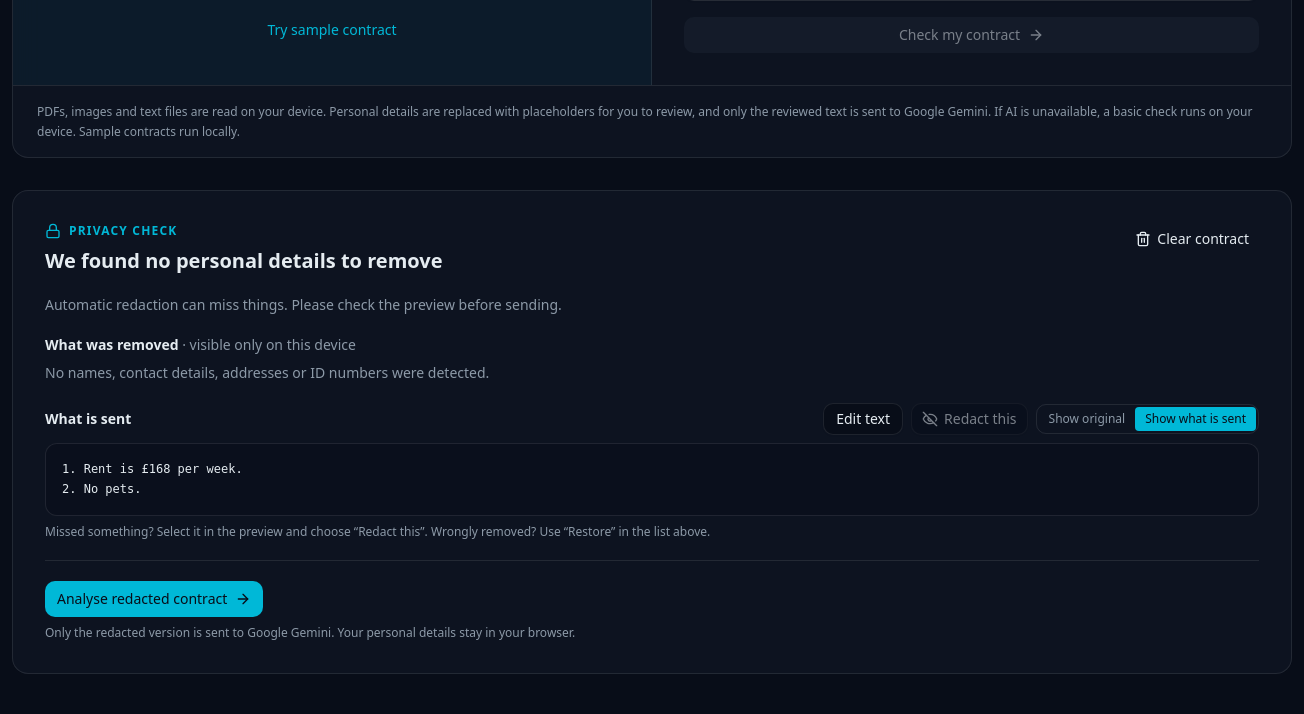
Test case: keeps the extracted PDF available for quotation lookup after pre-analysis review
(page scrolled)
Click the button "Analyse redacted contract" at (154,599), box x1=45 y1=581 x2=263 y2=617
(page scrolled)
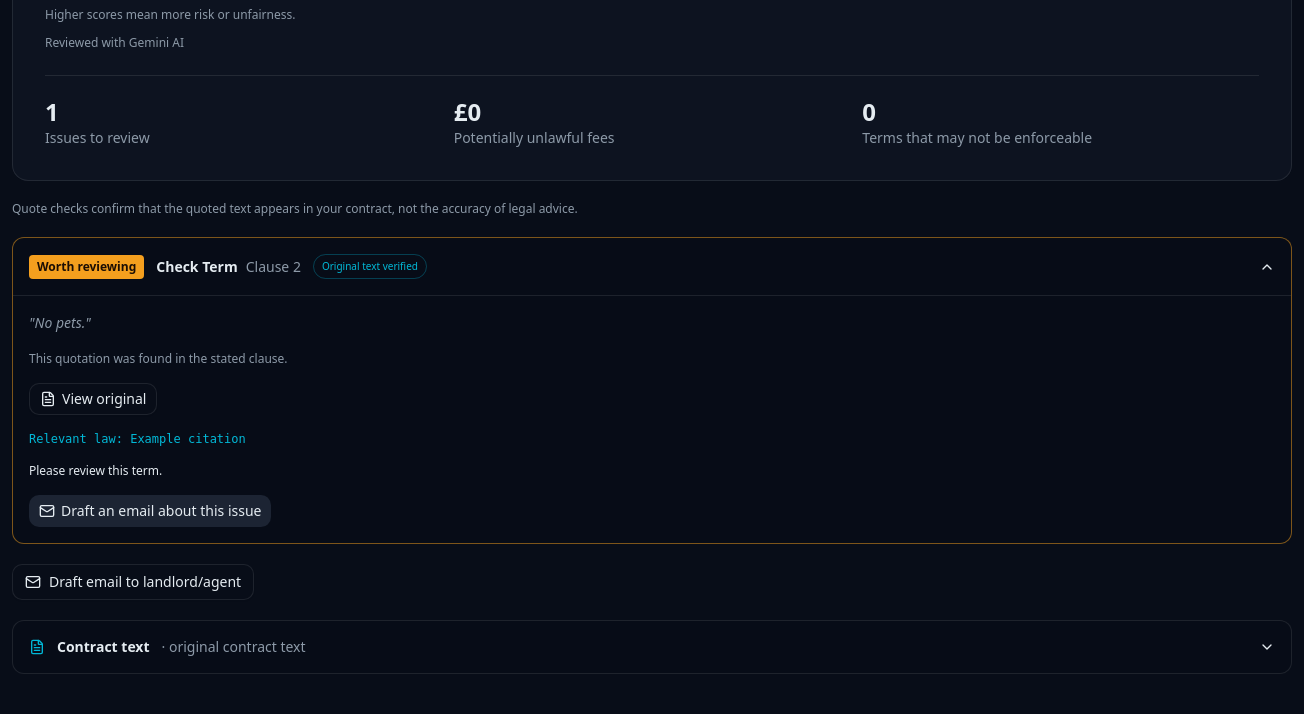
Click the button "View original" at (93,399), box x1=29 y1=383 x2=158 y2=415
(page scrolled)
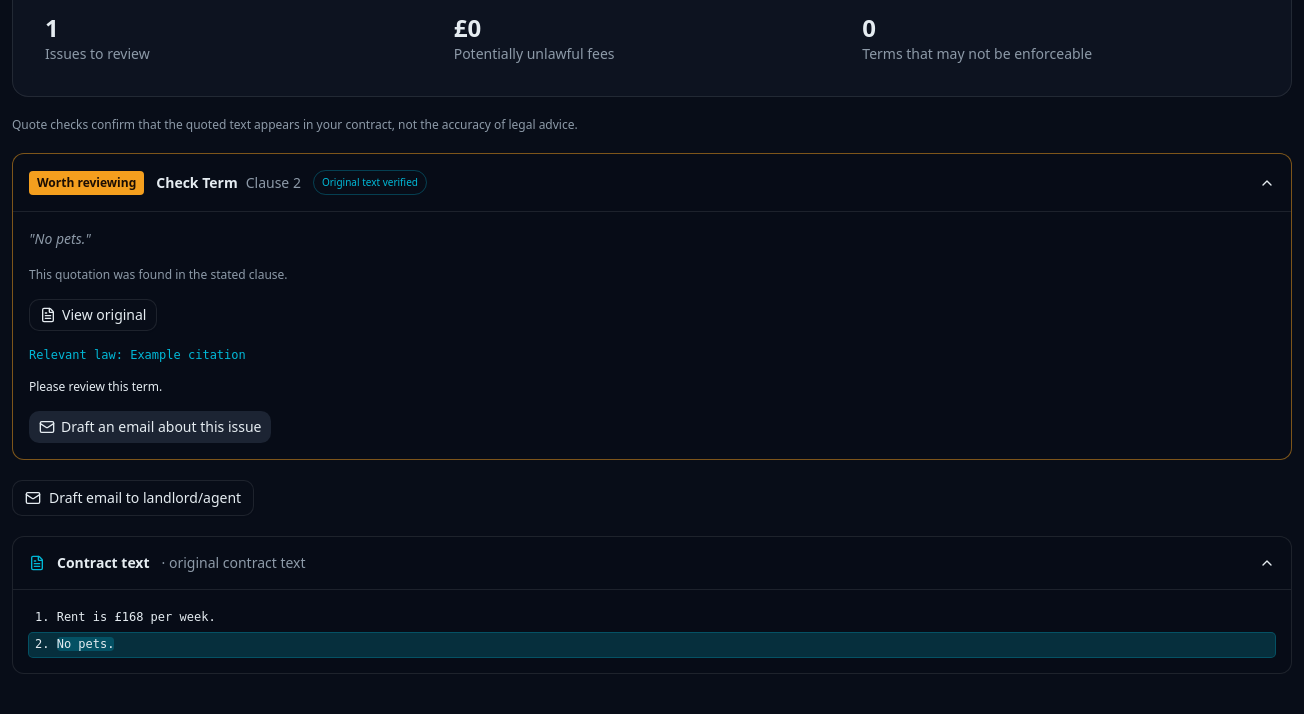
Now the text "No pets." is shown, box x1=57 y1=637 x2=114 y2=651
